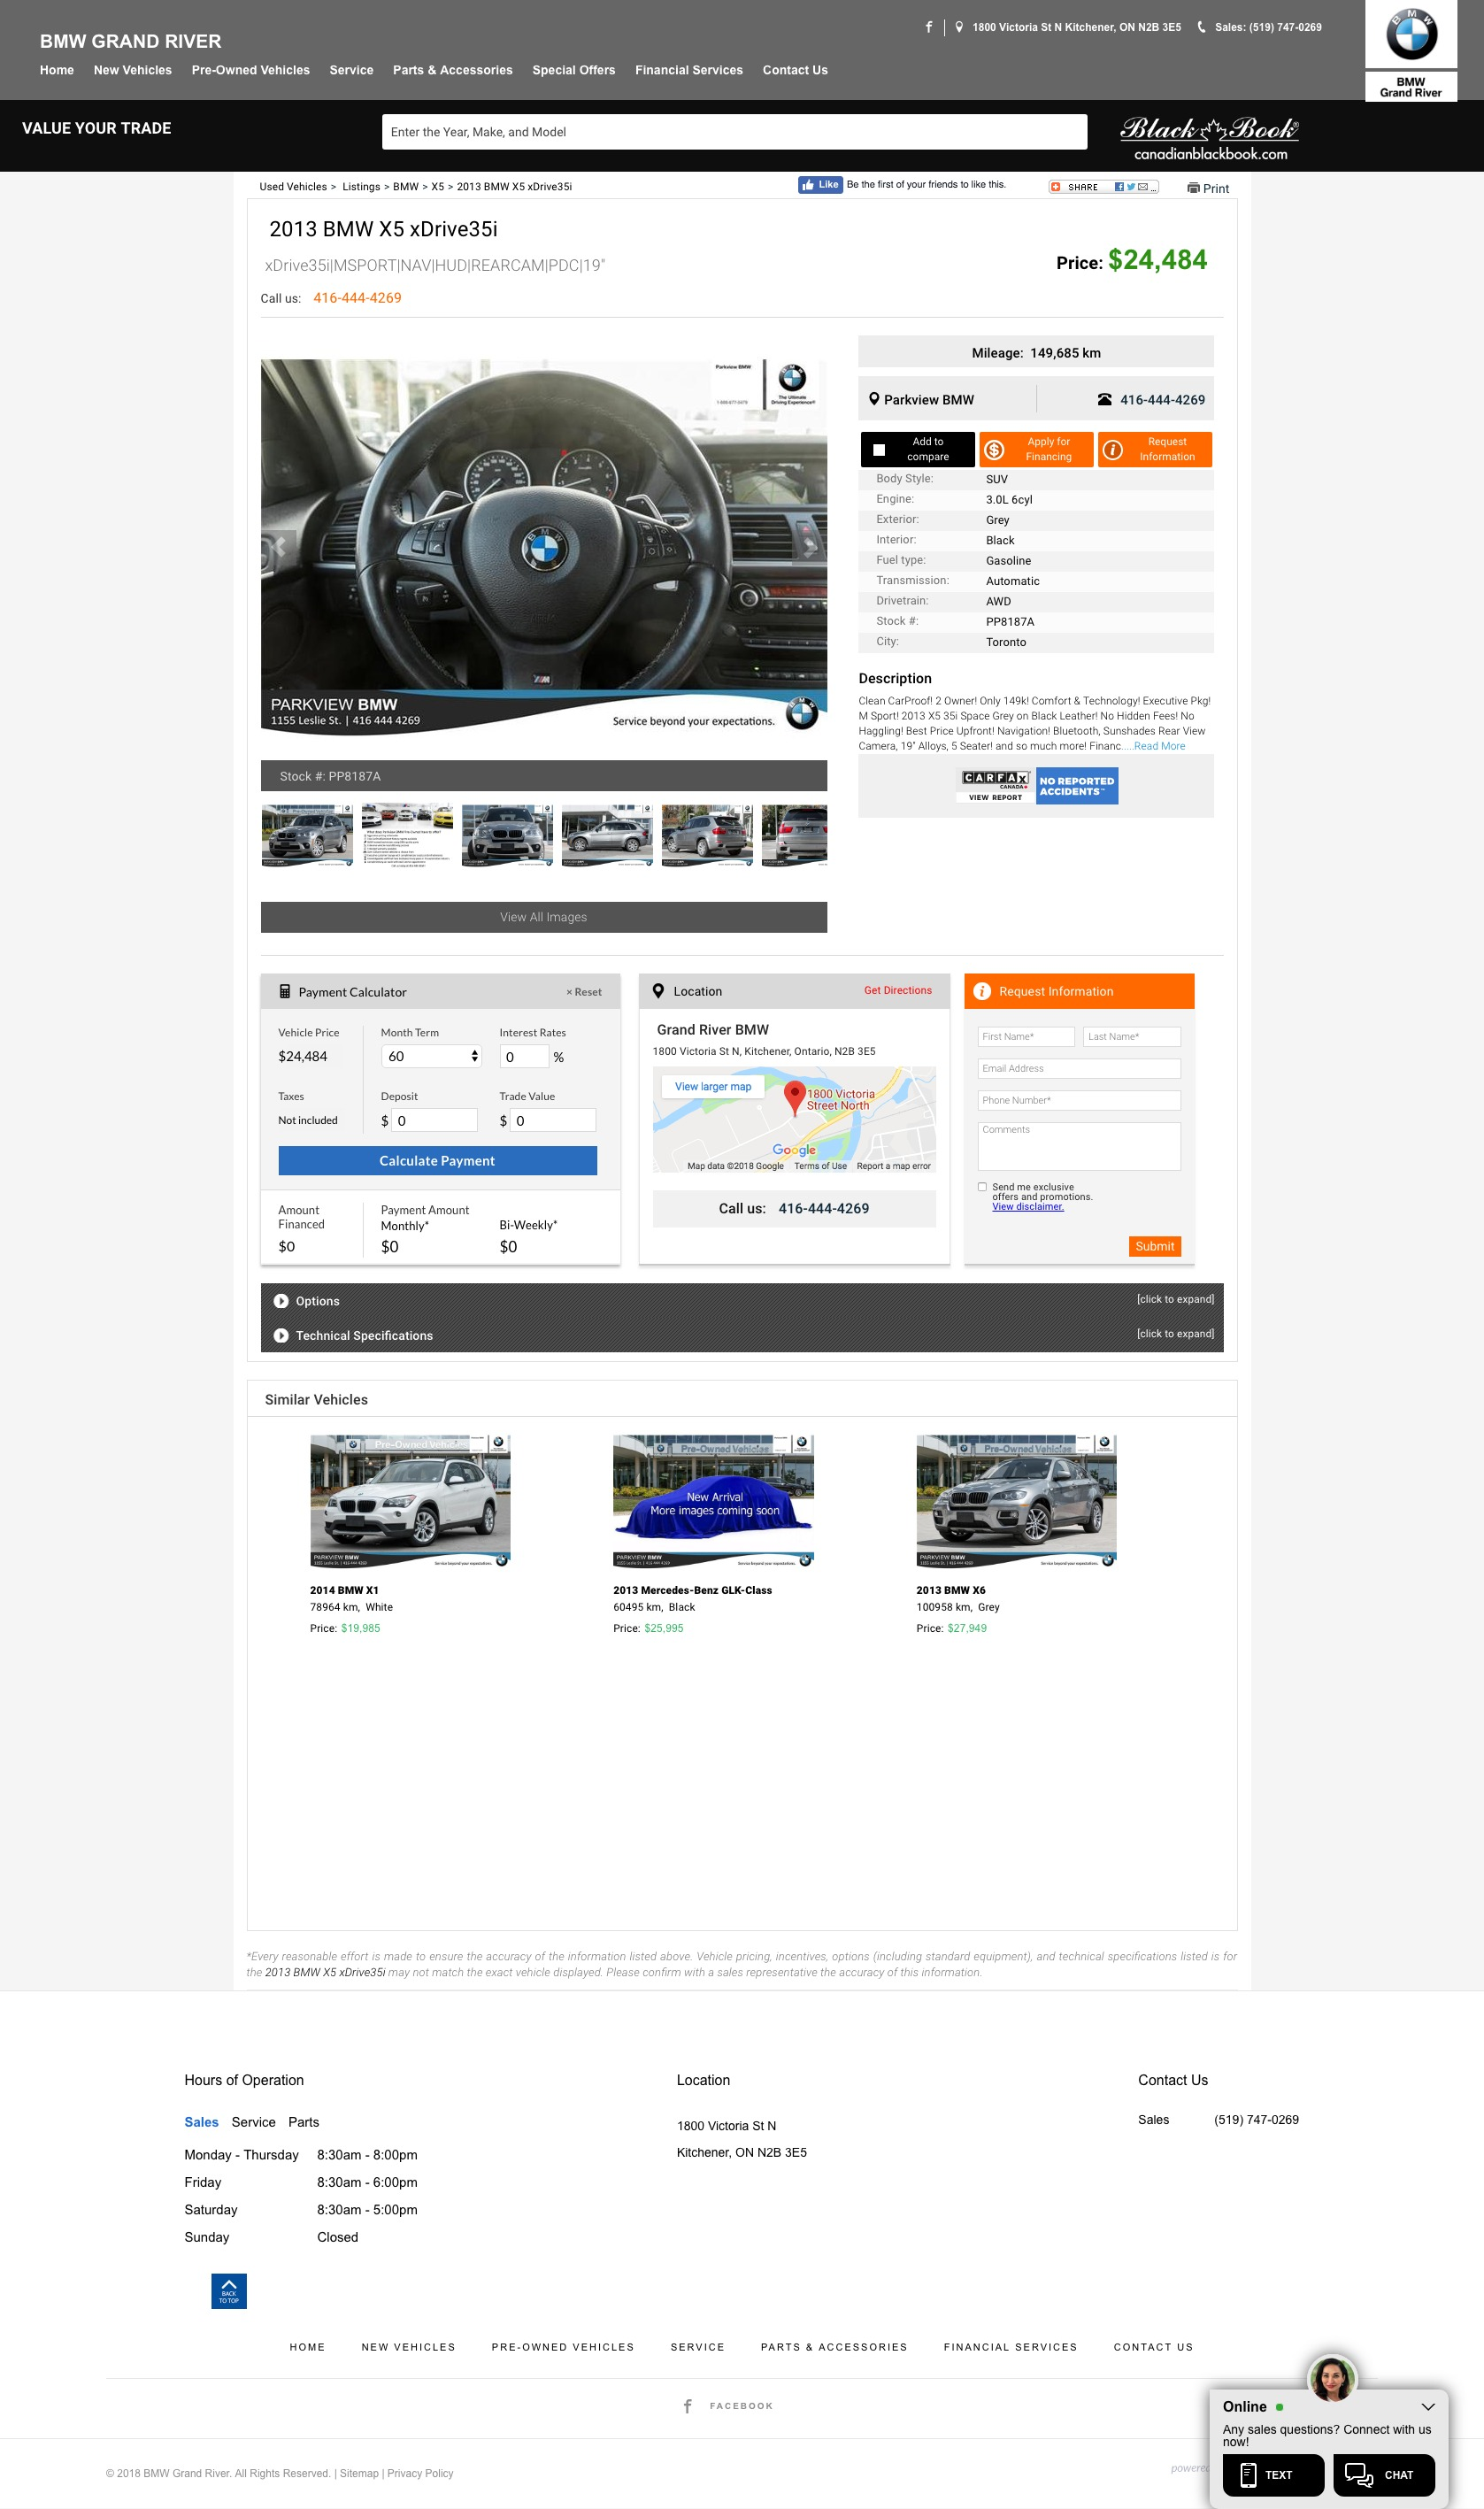car: (791, 530, 829, 569)
